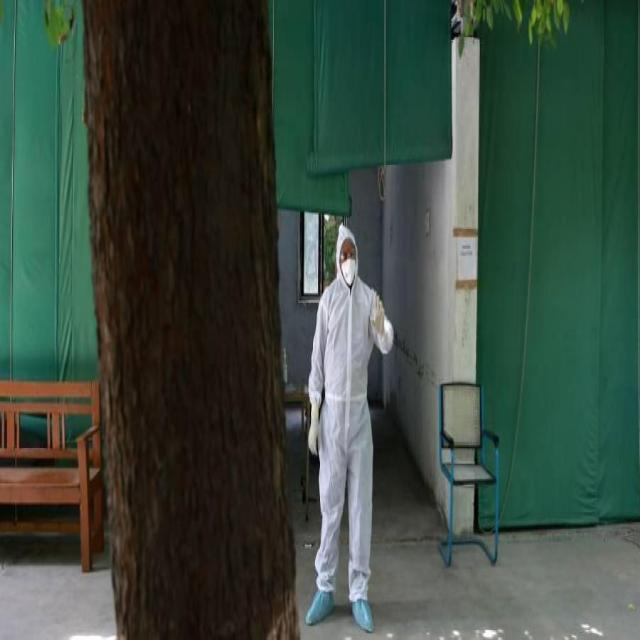Coverall: (297, 205, 397, 626)
Gloves: (302, 383, 338, 498), (361, 287, 395, 330)
Mask: (337, 255, 364, 300)
